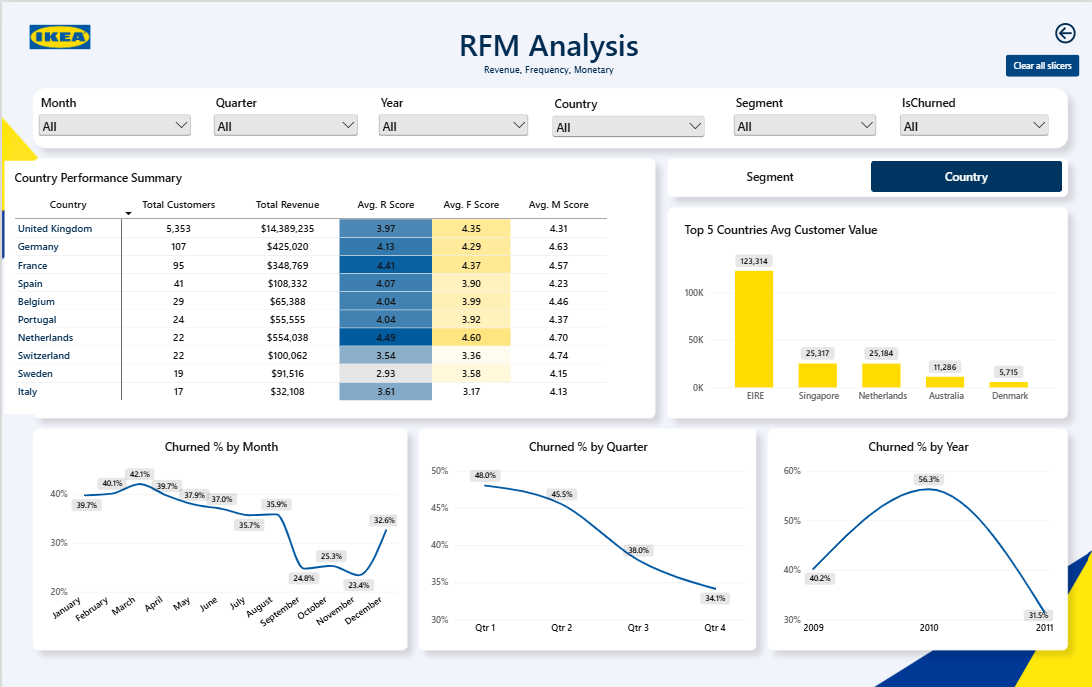

Layout of this report page (visuals, bound fields, positions):
{"tool":"powerbi","page":{"name":"RFM Analysis","canvas":[1750,1100],"ordinal":1},"visuals":[{"type":"lineChart","title":"Churned % by Month ","fields":{"Category":["Sheet1.InvoiceDate.Variation.Date Hierarchy.Month"],"Y":["Sheet1.Churned %"]},"box":[54.4,684.2,594.2,348.7],"z":2000,"group":"g1"},{"type":"lineChart","fields":{"Category":["Sheet1.InvoiceDate.Variation.Date Hierarchy.Quarter"],"Y":["Sheet1.Churned %"]},"box":[671.1,684.2,536.1,348.7],"z":3000,"group":"g1"},{"type":"slicer","fields":{"Values":["Sheet1.InvoiceDate.Variation.Date Hierarchy.Month"]},"box":[54.4,148.1,253.1,76.9],"z":4000},{"type":"lineChart","fields":{"Category":["Sheet1.InvoiceDate.Variation.Date Hierarchy.Year"],"Y":["Sheet1.Churned %"]},"box":[1233.4,684.2,464.9,348.7],"z":4000,"group":"g1"},{"type":"slicer","fields":{"Values":["Sheet1.InvoiceDate.Variation.Date Hierarchy.Quarter"]},"box":[333.7,148.1,239.9,76.9],"z":5000},{"type":"slicer","fields":{"Values":["Sheet1.InvoiceDate.Variation.Date Hierarchy.Year"]},"box":[598,148.1,249.3,76.9],"z":6000},{"type":"slicer","fields":{"Values":["Sheet1.Country"]},"box":[875.4,150,253.1,75],"z":7000},{"type":"slicer","fields":{"Values":["Sheet1.Segment"]},"box":[1165.9,148.1,238.1,76.9],"z":8000},{"type":"slicer","fields":{"Values":["Sheet1.IsChurned"]},"box":[1432.1,148.1,247.4,75],"z":9000},{"type":"group","id":"g1","title":"Revenue","box":[54.4,684.2,1643.9,348.7],"z":11000},{"type":"bookmarkNavigator","box":[1075.9,254.9,620.5,50.6],"z":12000},{"type":"image","box":[3.7,15,178.1,84.4],"z":13000},{"type":"textbox","box":[558.2,33.7,633.6,99.3],"z":14000},{"type":"actionButton","box":[1651.4,13.1,99.3,71.2],"z":15000},{"type":"actionButton","box":[1606.4,84.4,118.1,35.6],"z":16000},{"type":"pivotTable","title":"Segment Performance Summary","fields":{"Rows":["Sheet1.Segment"],"Values":["Sheet1.Total Customers","Sheet1.Total Revenue","Avg(Sheet1.R_Score)","Avg(Sheet1.F_Score)","Avg(Sheet1.M_Score)"]},"box":[0,254.9,1038.5,404.9],"z":16001},{"type":"columnChart","title":"Segment by Avg Customer Value ","fields":{"Category":["Sheet1.Segment"],"Y":["Sheet1.Avg Customer Value"]},"box":[1075.9,335.5,626.1,324.3],"z":16002}]}

Visuals, with their boxes in screenshot pixels (x1, y1, x2, y2), scaled from the page's 1750x1100 canvas onto the 1092x687 screenshot:
"Churned % by Month " lineChart: <bbox>34, 427, 405, 645</bbox>
lineChart - Sheet1.InvoiceDate.Variation.Date Hierarchy.Quarter x Sheet1.Churned %: <bbox>419, 427, 753, 645</bbox>
slicer - Sheet1.InvoiceDate.Variation.Date Hierarchy.Month: <bbox>34, 92, 192, 141</bbox>
lineChart - Sheet1.InvoiceDate.Variation.Date Hierarchy.Year x Sheet1.Churned %: <bbox>770, 427, 1060, 645</bbox>
slicer - Sheet1.InvoiceDate.Variation.Date Hierarchy.Quarter: <bbox>208, 92, 358, 141</bbox>
slicer - Sheet1.InvoiceDate.Variation.Date Hierarchy.Year: <bbox>373, 92, 529, 141</bbox>
slicer - Sheet1.Country: <bbox>546, 94, 704, 141</bbox>
slicer - Sheet1.Segment: <bbox>728, 92, 876, 141</bbox>
slicer - Sheet1.IsChurned: <bbox>894, 92, 1048, 139</bbox>
"Revenue" group: <bbox>34, 427, 1060, 645</bbox>
bookmarkNavigator: <bbox>671, 159, 1059, 191</bbox>
image: <bbox>2, 9, 113, 62</bbox>
textbox: <bbox>348, 21, 744, 83</bbox>
actionButton: <bbox>1030, 8, 1091, 53</bbox>
actionButton: <bbox>1002, 53, 1076, 75</bbox>
"Segment Performance Summary" pivotTable: <bbox>0, 159, 648, 412</bbox>
"Segment by Avg Customer Value " columnChart: <bbox>671, 210, 1062, 412</bbox>
